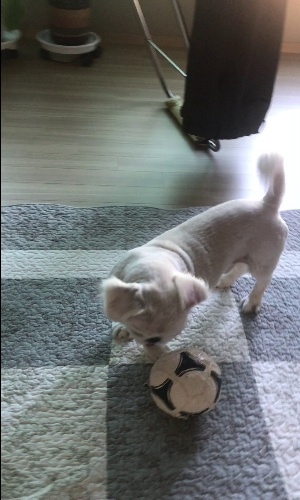ddubi: (98, 149, 290, 355)
